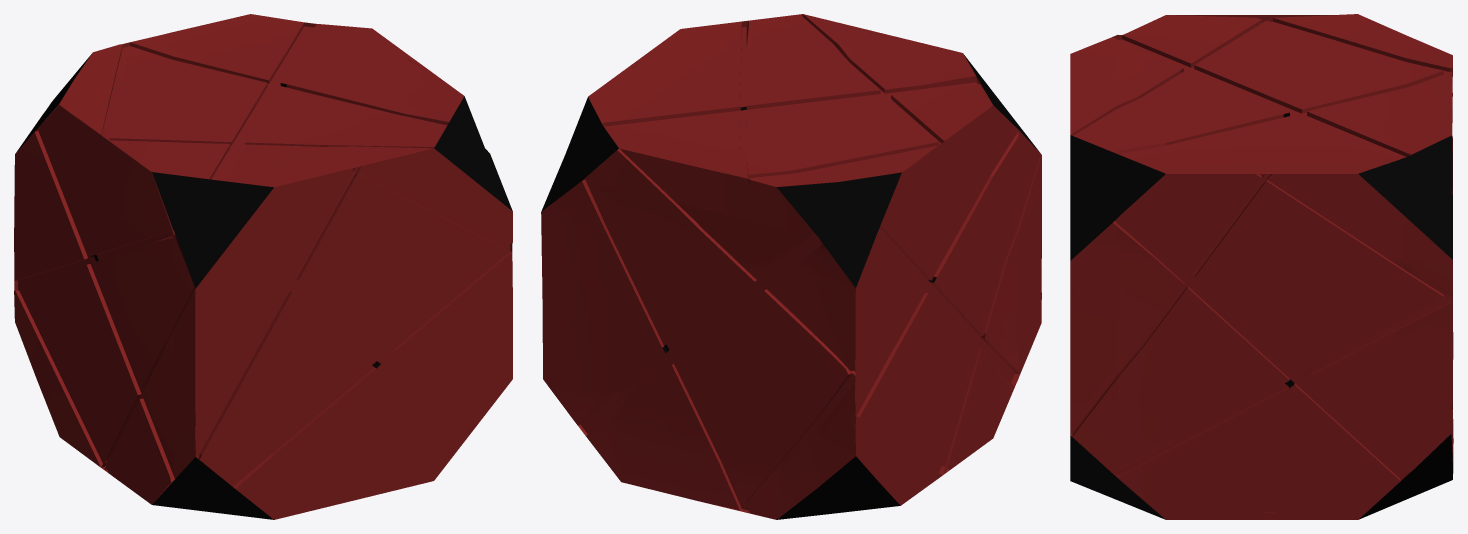
Rendered from coreBox.obj.
The picture shows the model from 3 angles, left to right: view 1: azimuth 30°, elevation 25°; view 2: azimuth 150°, elevation 25°; view 3: azimuth 270°, elevation 25°; orthographic projection. The views are drawn at different scales.
Visible parts, largest first — view 1: TansparentFaces transparentCube, TriangleSides transparentCube; view 2: TansparentFaces transparentCube, TriangleSides transparentCube; view 3: TansparentFaces transparentCube, TriangleSides transparentCube.
Part boxes in pixels (x1,y1,x2,y2): TansparentFaces transparentCube: [14, 14, 512, 519]; TriangleSides transparentCube: [16, 54, 512, 519]; TansparentFaces transparentCube: [541, 14, 1041, 519]; TriangleSides transparentCube: [541, 55, 1039, 519]; TansparentFaces transparentCube: [1070, 14, 1453, 519]; TriangleSides transparentCube: [1070, 135, 1452, 519].
Size of the model in its own units: 14.67 by 14.74 by 14.73.
